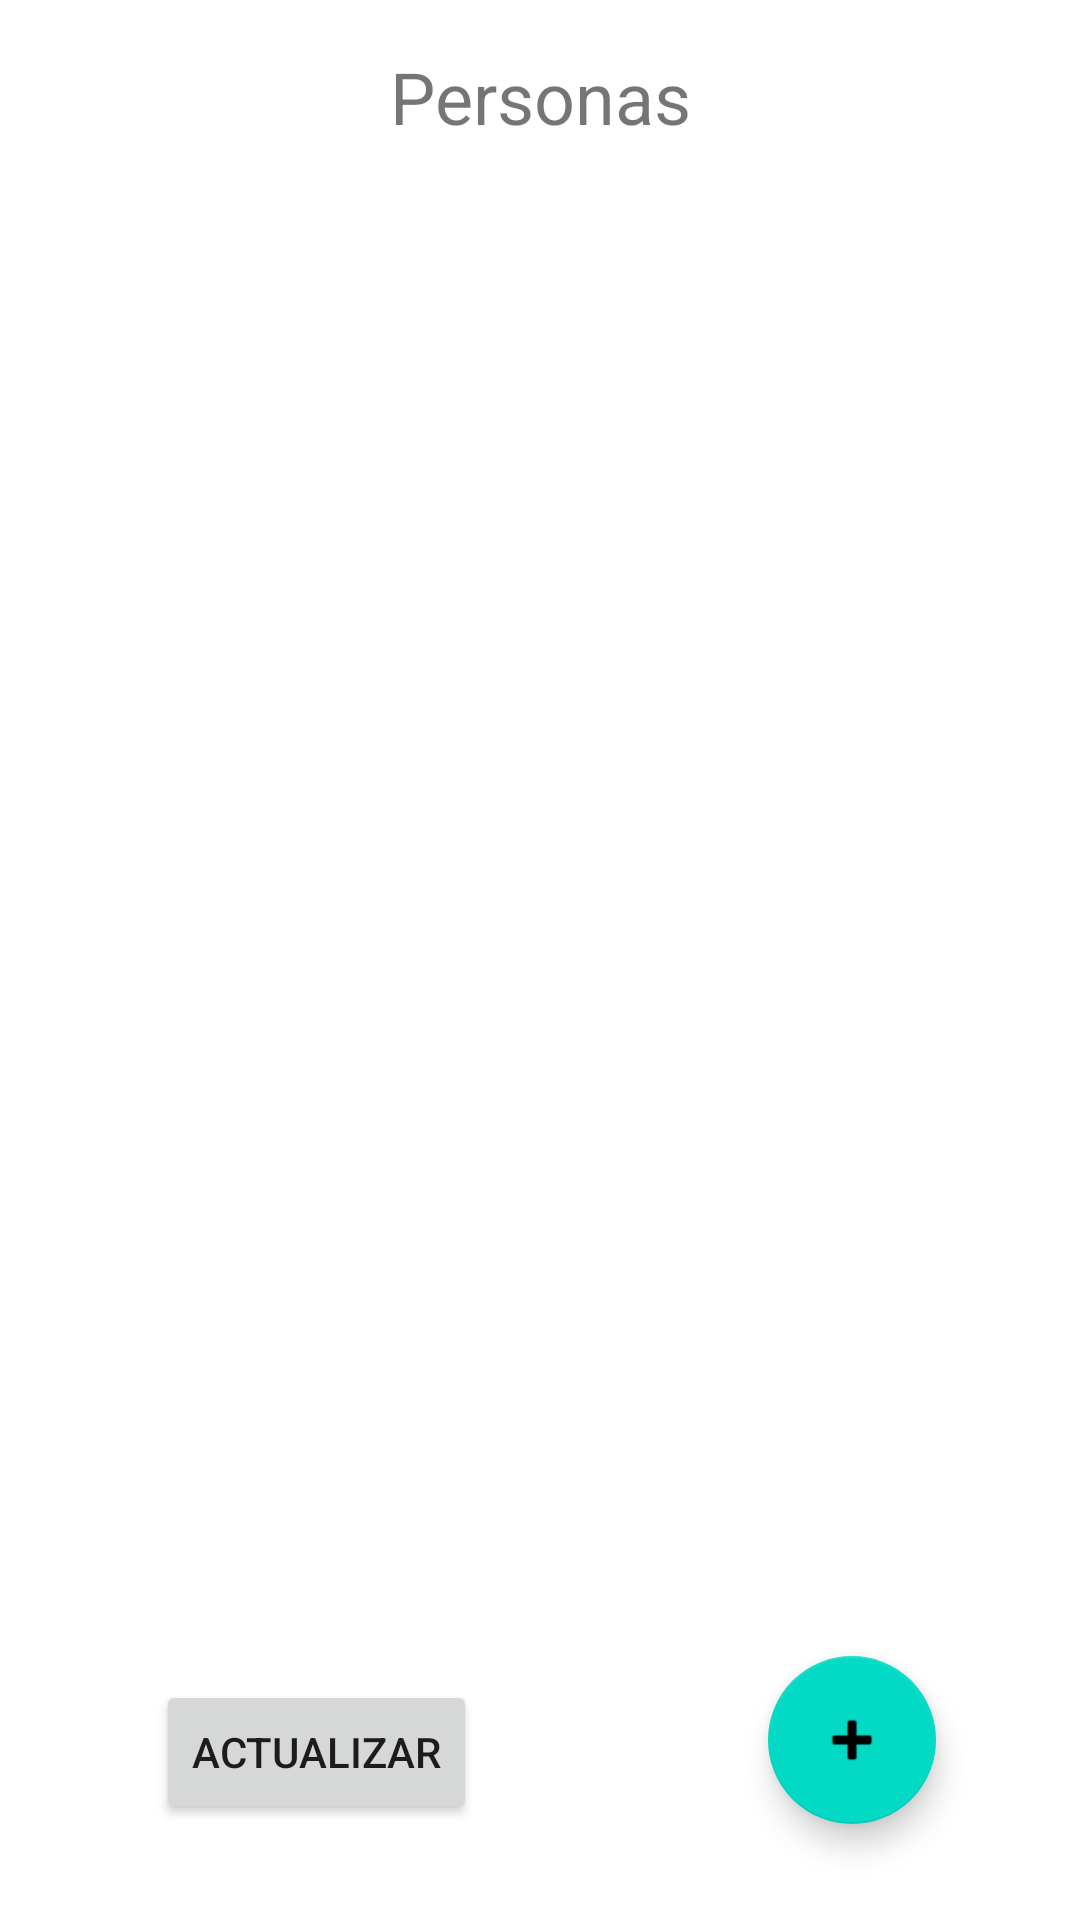

Icon bounding boxes for this 1080 × 1920 phone screenshot, format region(x1, y1, x2, y2):
add: region(768, 1656, 936, 1824)
